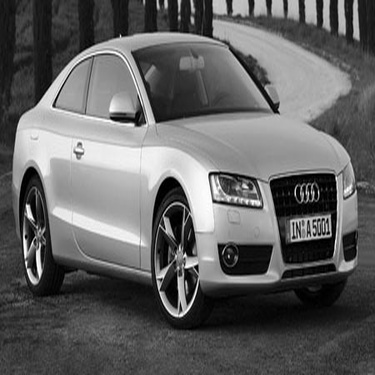car: (4, 25, 367, 335)
